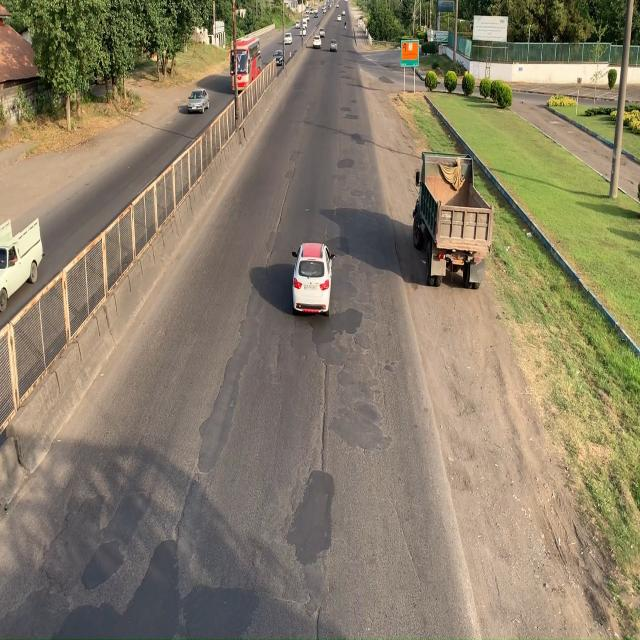Truck: (414, 152, 498, 292)
cars: (0, 219, 40, 307), (291, 237, 333, 319)
